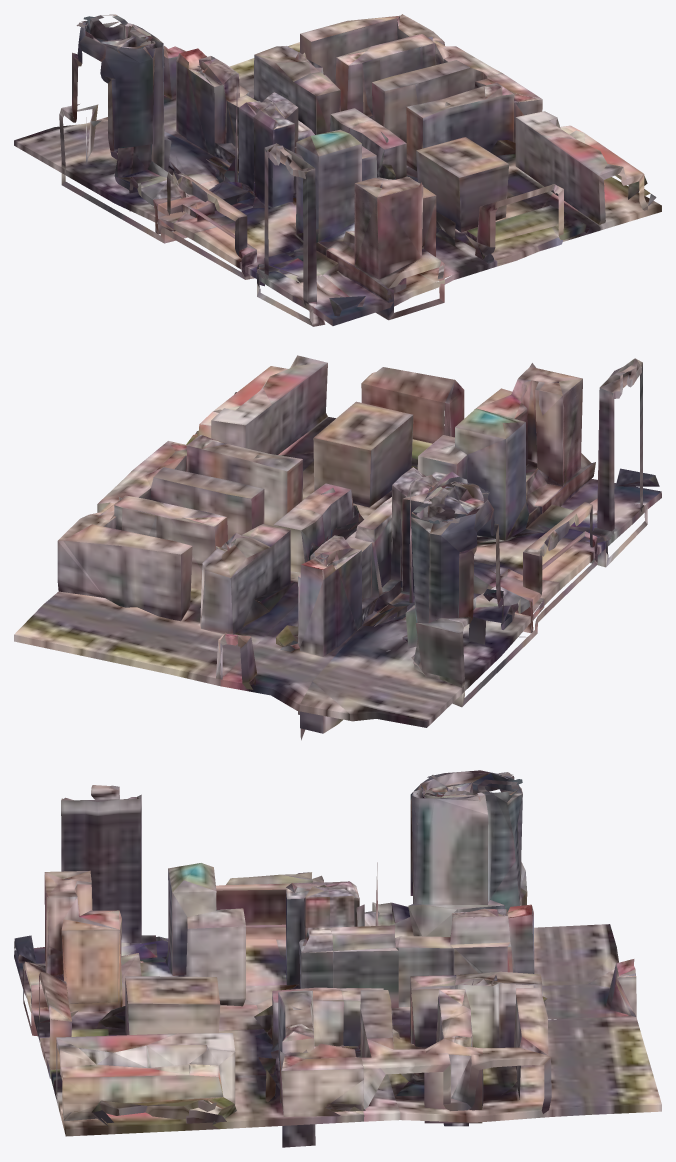
The picture shows the model from 3 angles, top to bottom: view 1: azimuth 30°, elevation 25°; view 2: azimuth 150°, elevation 25°; view 3: azimuth 270°, elevation 25°; orthographic projection. The views are drawn at different scales.
Parts seen in each view (by area): view 1: Mesh_0; view 2: Mesh_0; view 3: Mesh_0.
Boxes of the visible parts, x1,y1,x2,y2 form: Mesh_0: (14,14,661,326); Mesh_0: (14,355,661,740); Mesh_0: (14,770,661,1147).
Size of the model in its own units: 266 by 146 by 330.
2 materials, 2 textured.
